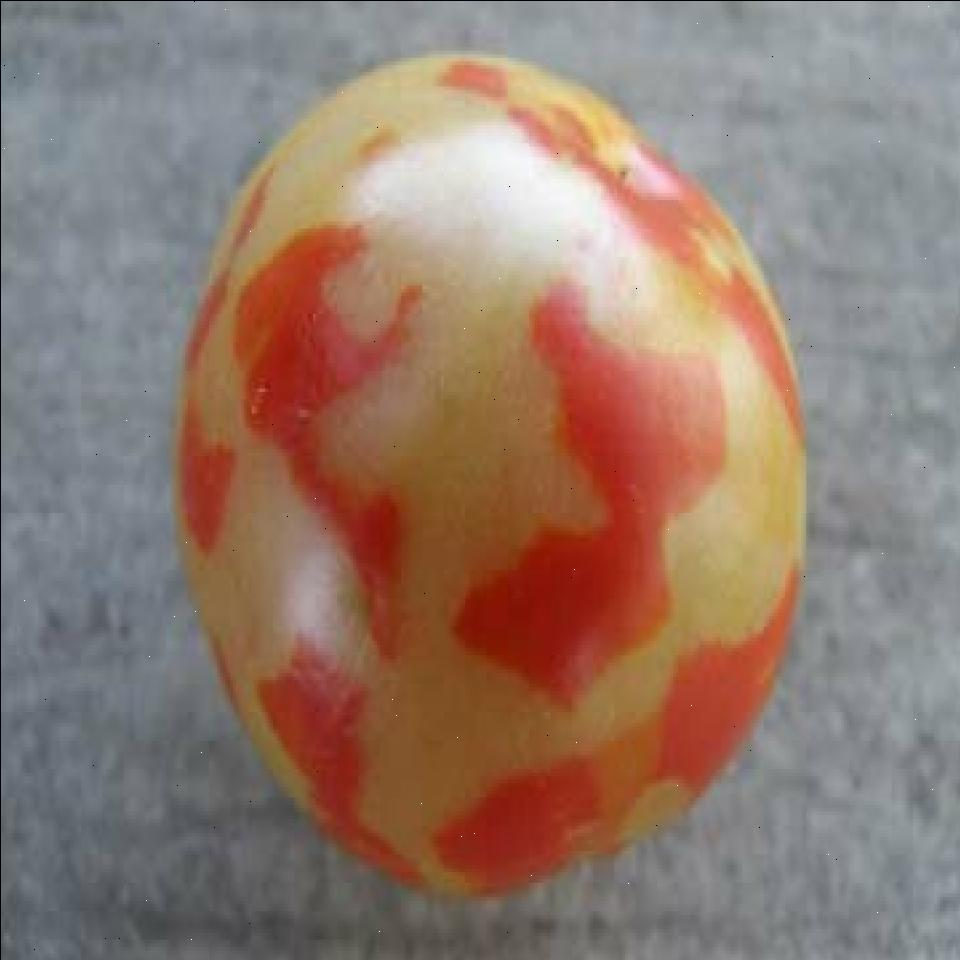Spotted wilt Virus: (171, 45, 806, 894)
